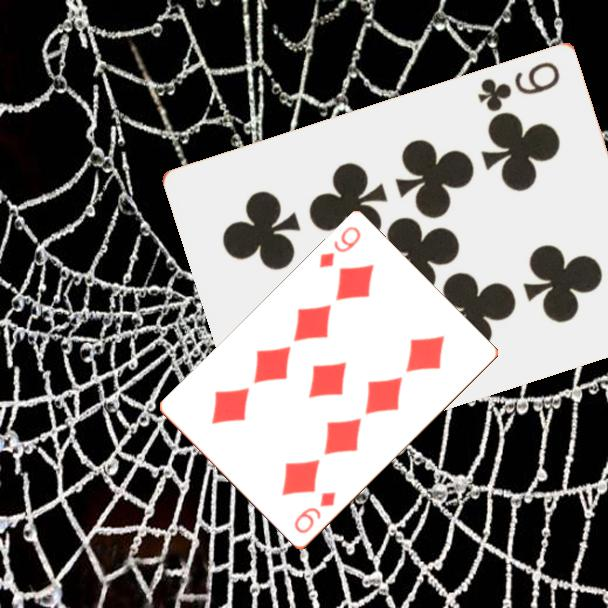c09: (474, 58, 563, 114)
d09: (290, 488, 339, 537), (315, 223, 364, 271)
